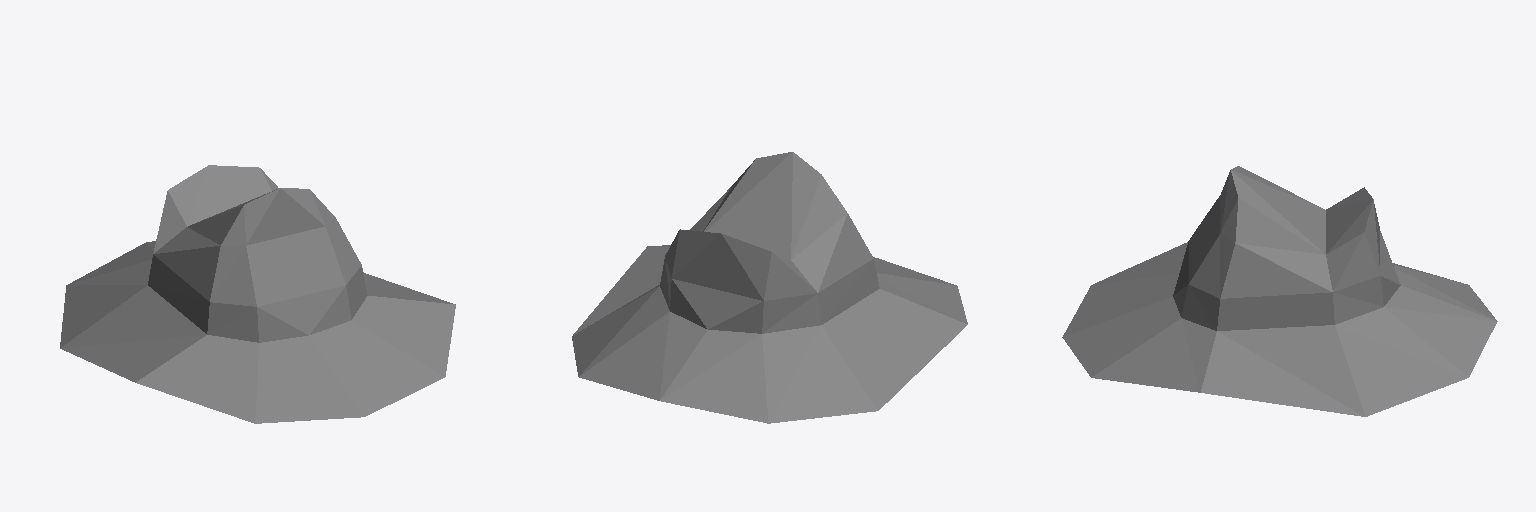
Rendered from Perry_Sombrero.obj.
The picture shows the model from 3 angles: view 1: azimuth 30°, elevation 25°; view 2: azimuth 150°, elevation 25°; view 3: azimuth 270°, elevation 25°; orthographic projection.
Parts seen in each view (by area): view 1: Sombrero; view 2: Sombrero; view 3: Sombrero.
Part boxes in pixels (x1,y1,x2,y2): Sombrero: (60,165,455,423); Sombrero: (572,152,967,423); Sombrero: (1062,166,1497,416).
Bounding box in the file's own units: 2.54 × 1.3 × 2.98.